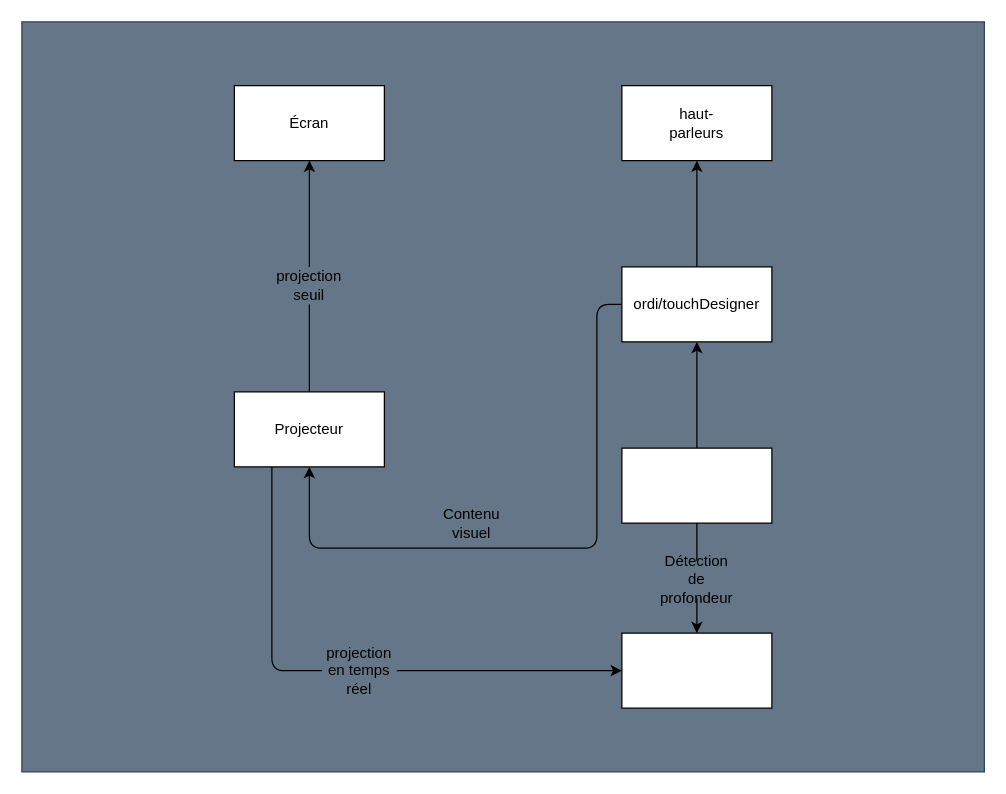
The diagram is 1006 pixels wide and 794 high, and some of its shapes have lost their labels. Here are the shapes that lost their labels. From the top down, the box of each, then its label:
(621, 447, 772, 523): kinect
(621, 632, 772, 708): Bac à sable
